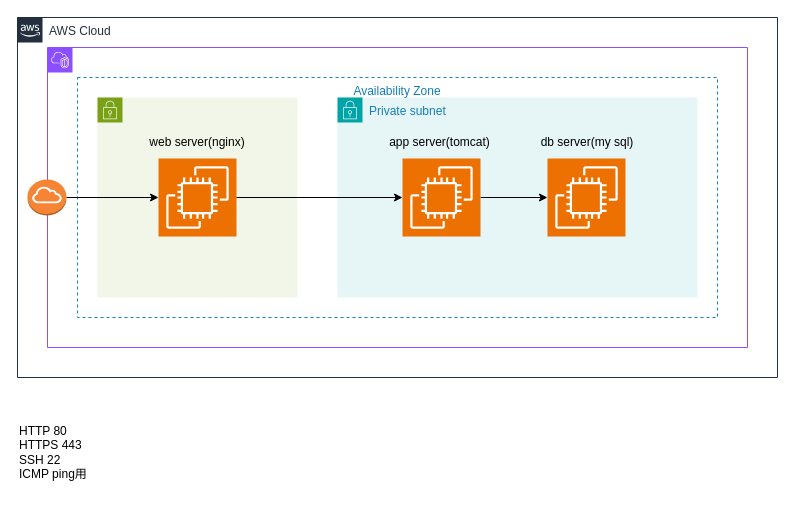
The diagram is 795 pixels wide and 505 high, and some of its shapes have lost their labels. The shapes that lost their labels are listed below. From the top down, each one's box as (x1, y1, x2, y2) in pixels, then its label:
(96, 96, 298, 298): Public subnet
(46, 46, 748, 348): VPC
